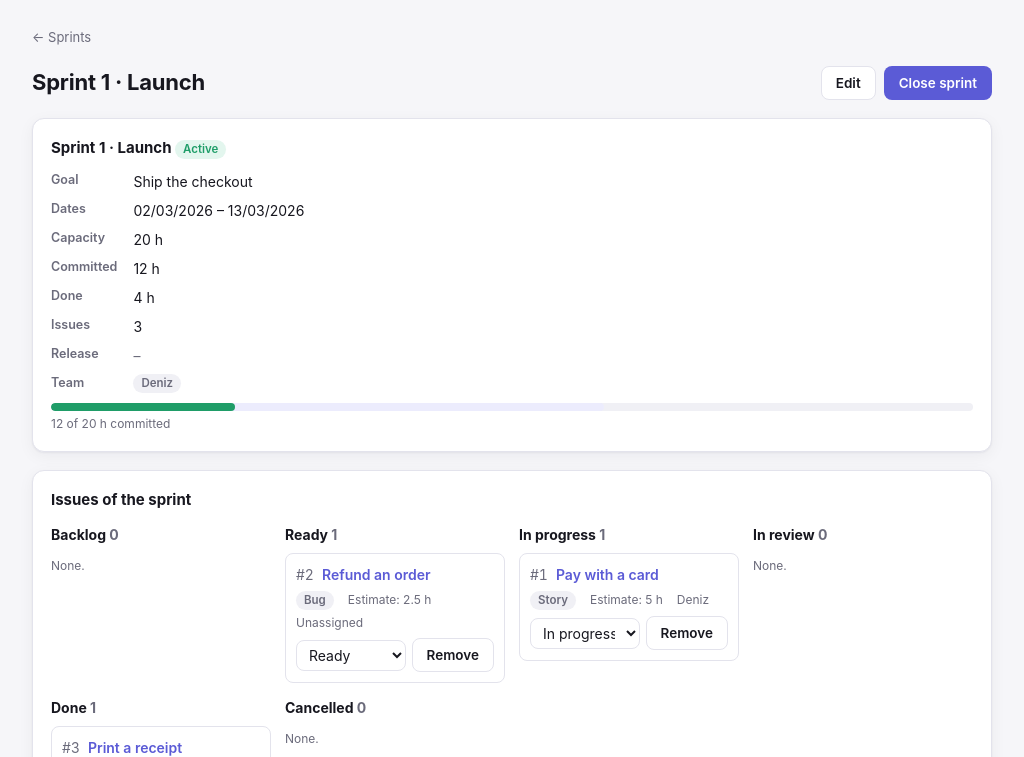
the sprint page: closing › asks where the unfinished issues go, counting them, and sends them back to the backlog
Click the button "Close sprint" at (938, 82), box [884,66,992,100]
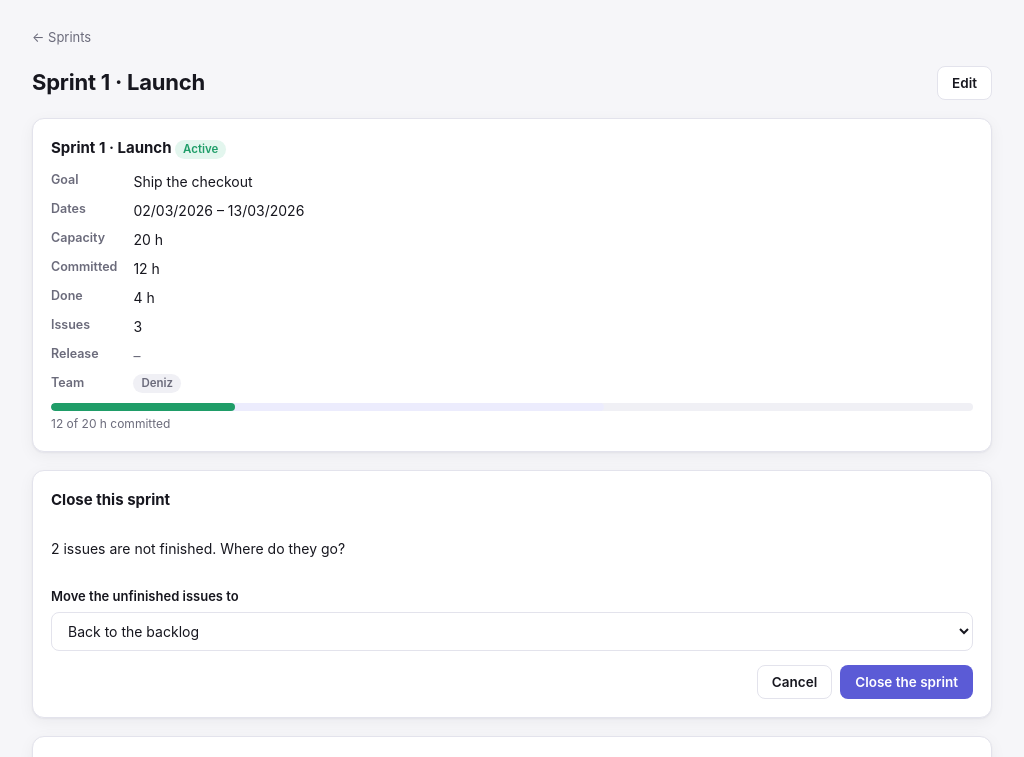
Expected: the text "2 issues are not finished. Where do they go?" is shown, [51,540,345,557]
Click the button "Close the sprint" at (907, 682), box [840,665,973,699]
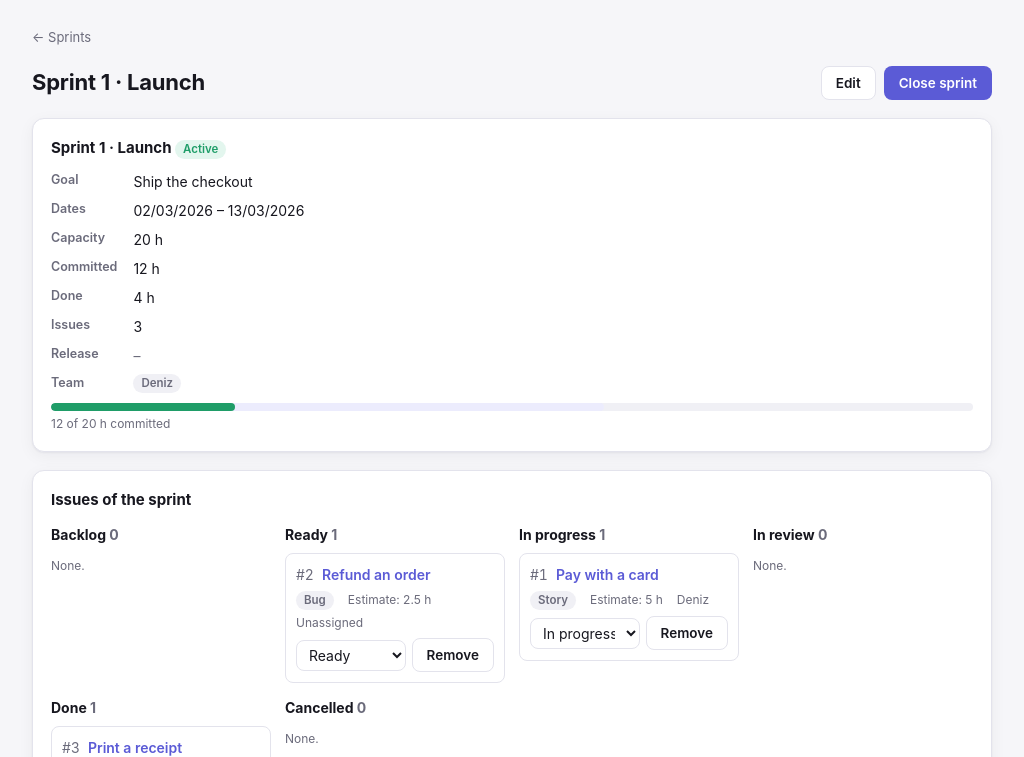
Expected: the text "Where do they go?" is gone
